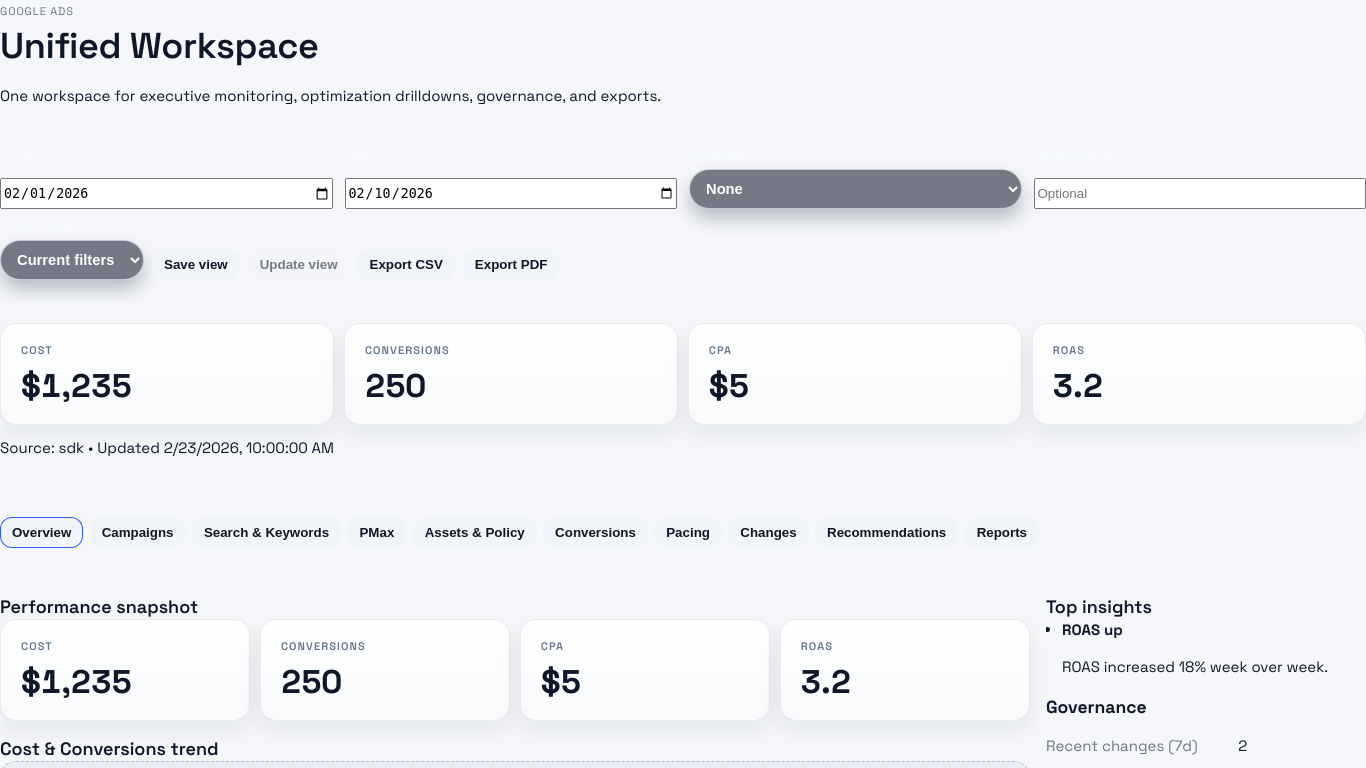
Test: GoogleAdsWorkspacePage › syncs workspace tabs and search mode with URL query params
The width and height of the screenshot is (1366, 768).
Click the tab "Campaigns" at (138, 532), box [90,517,186,548]
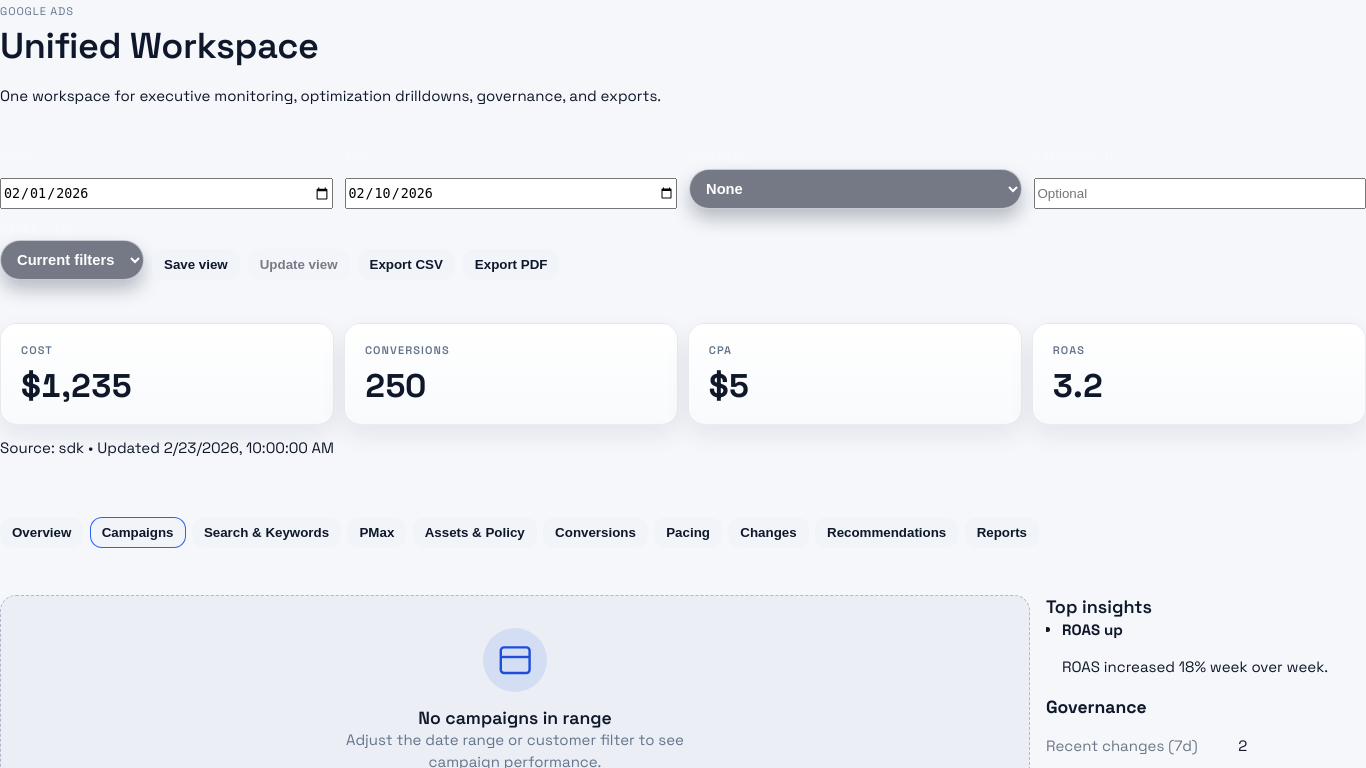
Click the tab "Search & Keywords" at (266, 532), box [192,517,341,548]
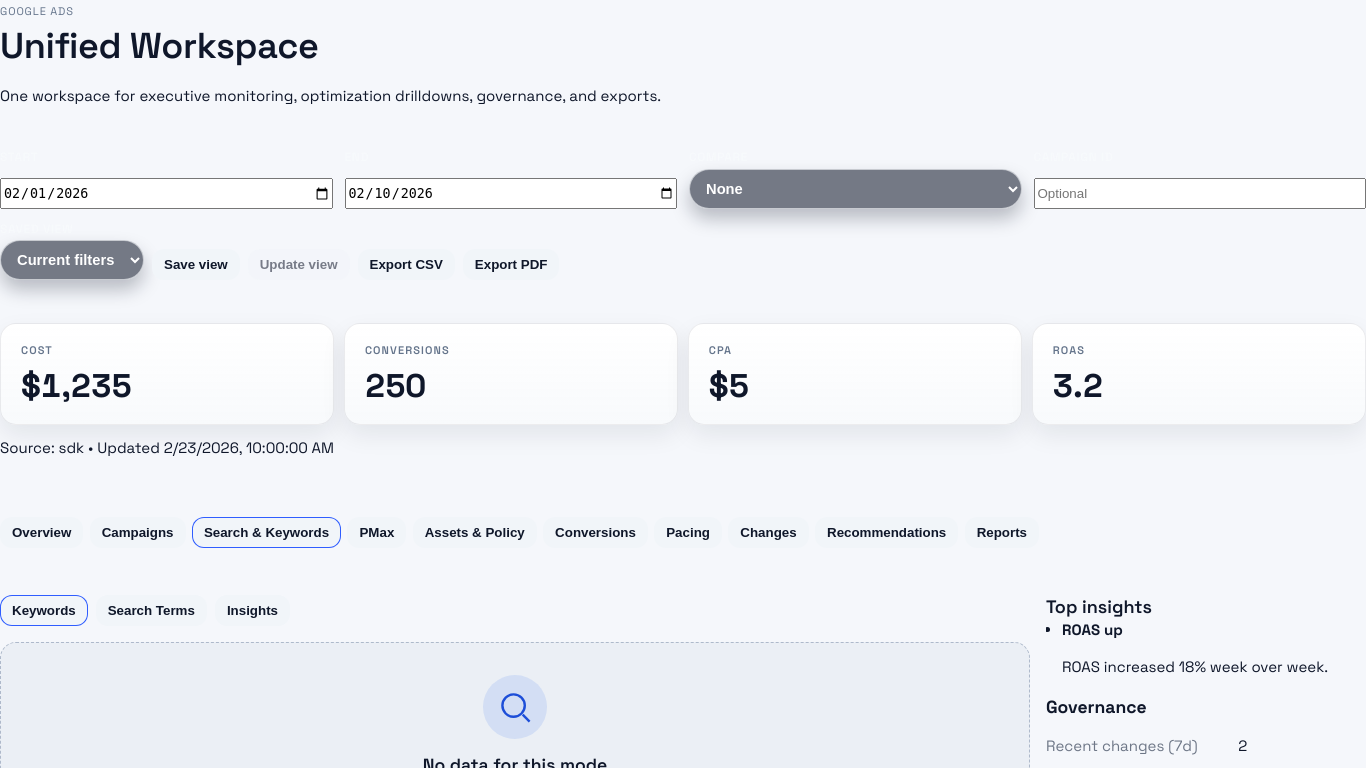
Click the button "Search Terms" at (151, 611), box [96,595,207,626]
(page scrolled)
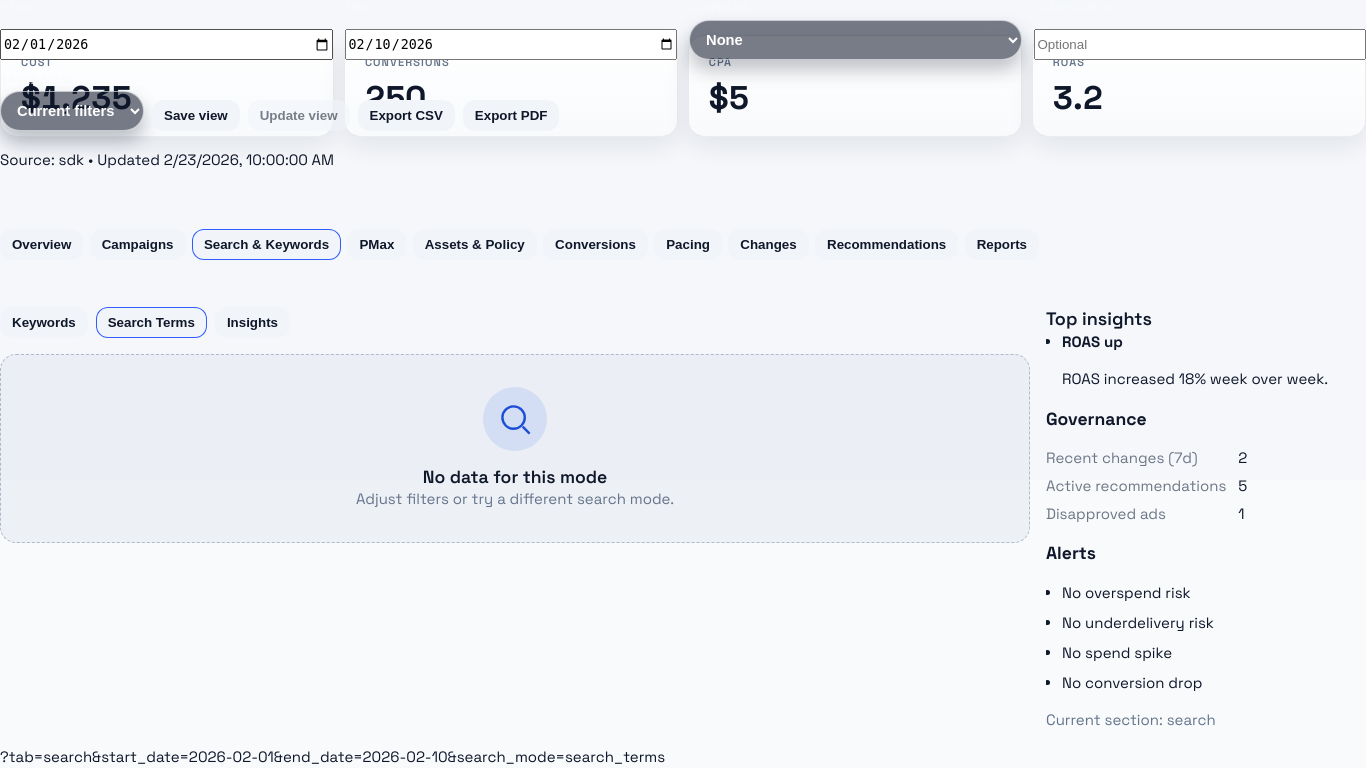
Now the text with test id "location-search" shows "search_mode=search_terms", box [0,747,665,766]
